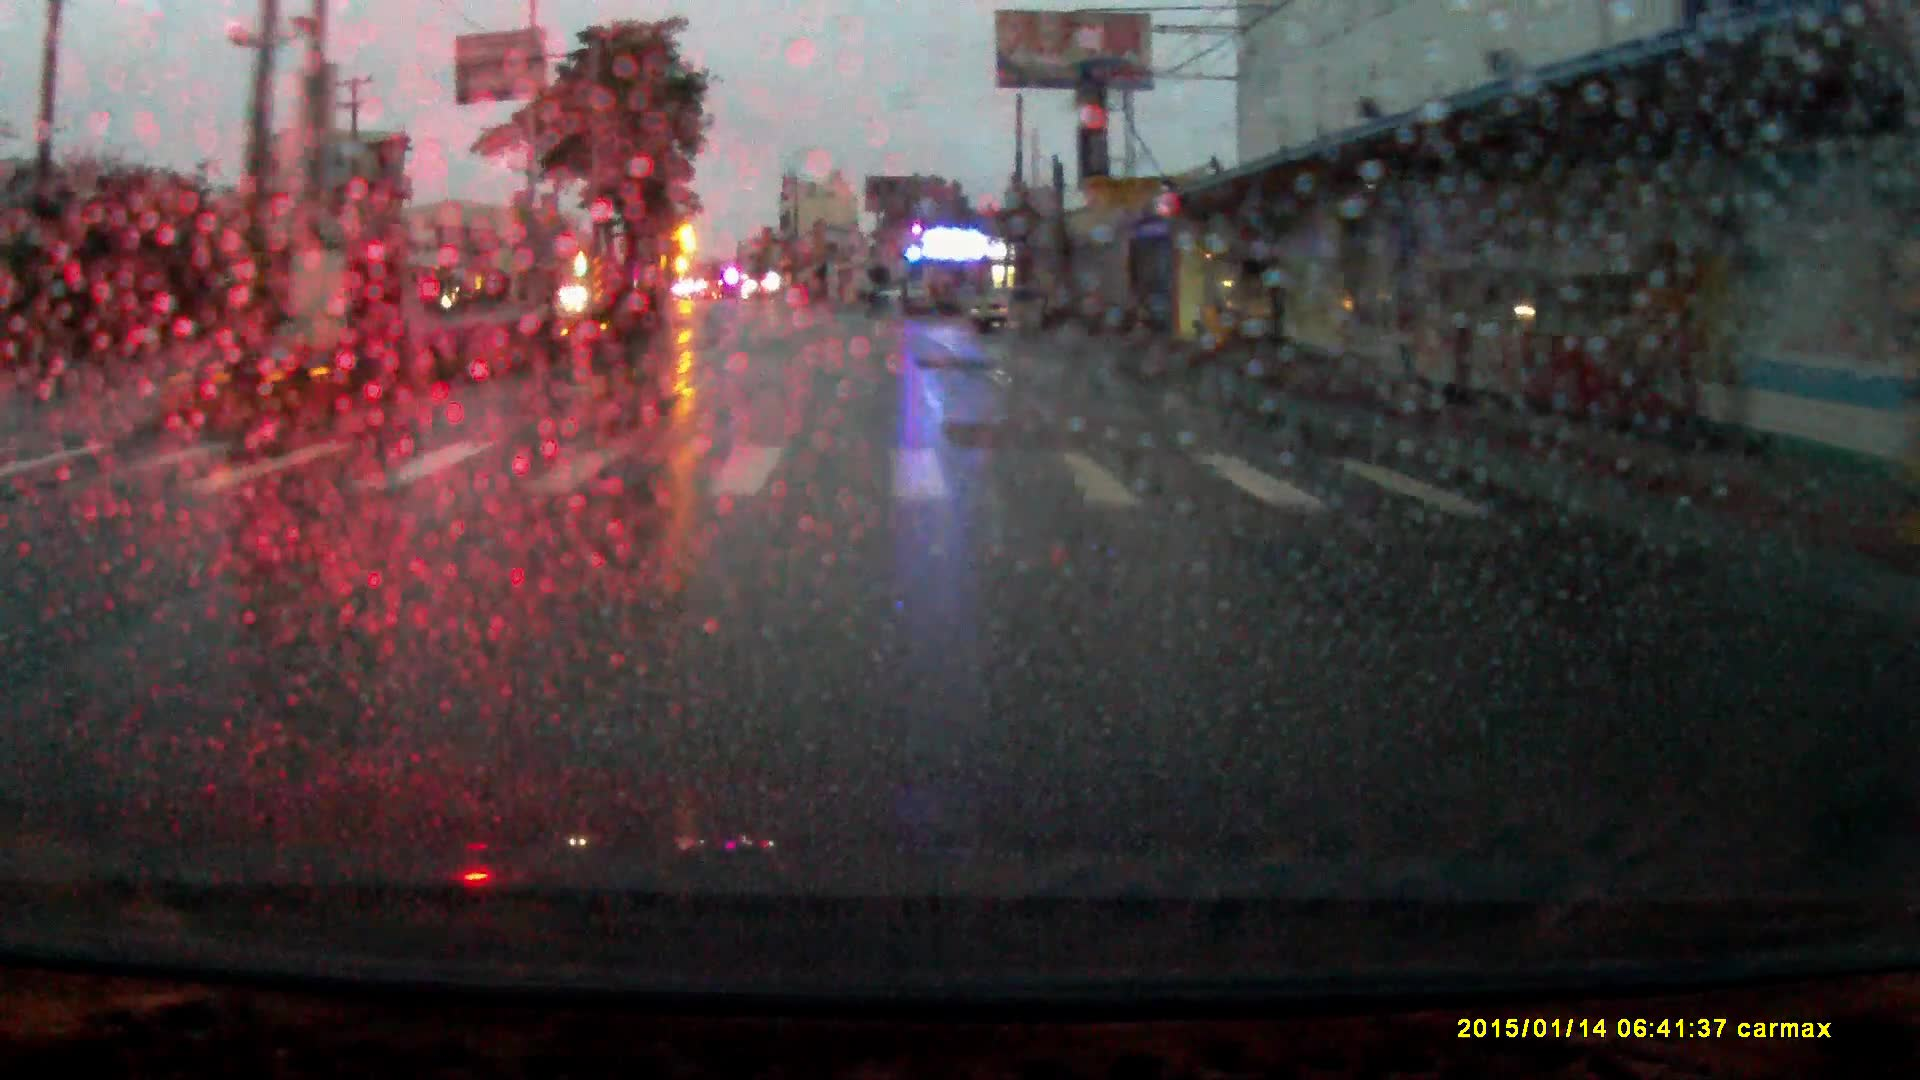vehicle: (967, 287, 1055, 338)
